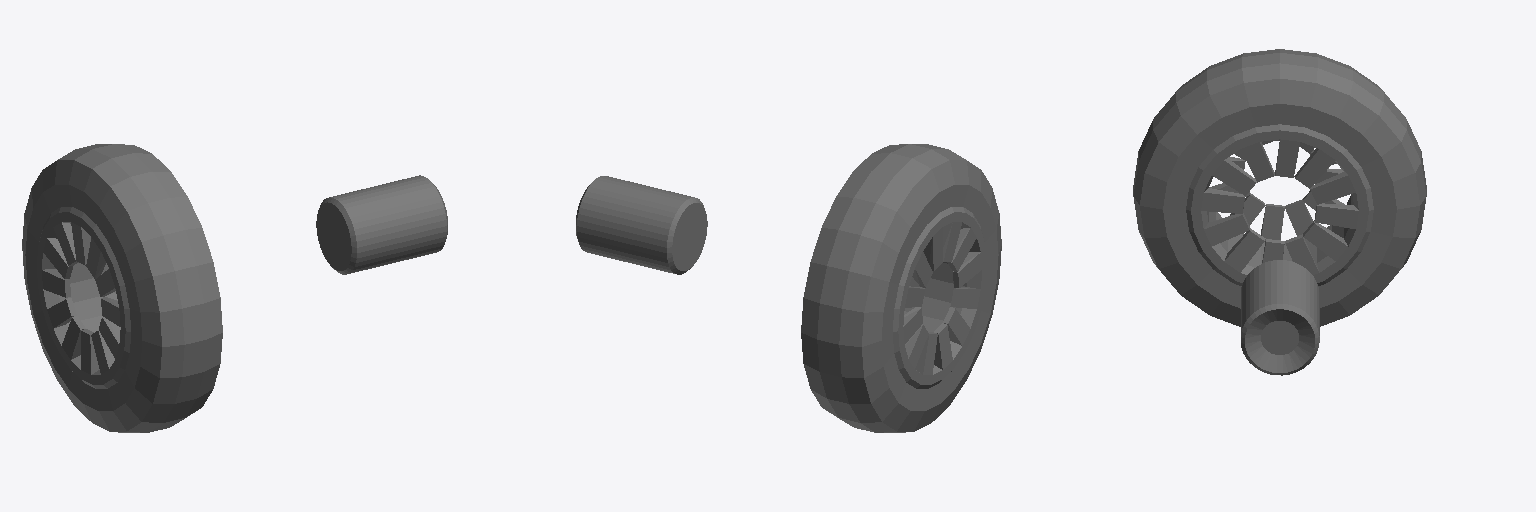
The model's file is JeepTire.obj.
The picture shows the model from 3 angles: view 1: azimuth 30°, elevation 25°; view 2: azimuth 150°, elevation 25°; view 3: azimuth 270°, elevation 25°; orthographic projection.
Parts seen in each view (by area): view 1: polySurface78 polySurface90, polySurface91 polySurface78; view 2: polySurface78 polySurface90, polySurface91 polySurface78; view 3: polySurface78 polySurface90, polySurface91 polySurface78.
Boxes of the visible parts, x1=… form: polySurface78 polySurface90: x1=22, y1=144, x2=222, y2=432; polySurface91 polySurface78: x1=316, y1=175, x2=447, y2=274; polySurface78 polySurface90: x1=801, y1=144, x2=1001, y2=432; polySurface91 polySurface78: x1=576, y1=176, x2=707, y2=274; polySurface78 polySurface90: x1=1133, y1=49, x2=1426, y2=326; polySurface91 polySurface78: x1=1241, y1=260, x2=1319, y2=375.
Bounding box in the file's own units: 2.96 × 2.15 × 2.15.